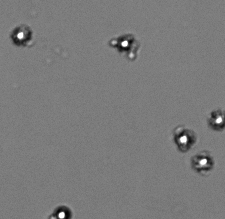Living Cell: (175, 127, 196, 152), (10, 24, 32, 45), (193, 151, 213, 171), (114, 33, 134, 52), (210, 109, 224, 129), (53, 205, 71, 217)
